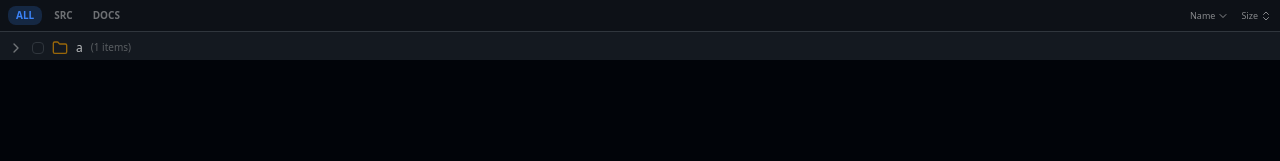
Test: FileTree State Preservation › Expansion state preservation › should maintain nested expansion hierarchy
Expected: the text "a" is shown, [76,38,83,56]
Click the button with test id "expand-icon" at point(16, 48), box [6,38,26,58]
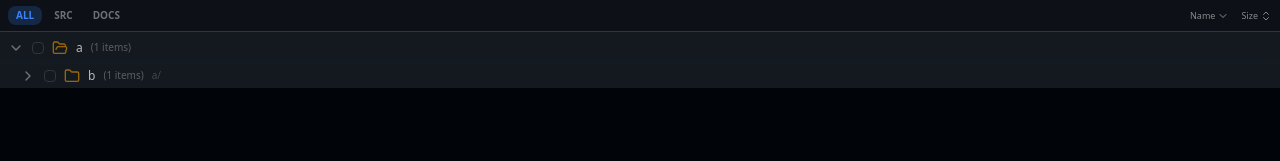
Result: the text "b" is shown at [88,66,95,84]
Click the 2nd button with test id "expand-icon" at point(28, 76), box [18,66,38,86]
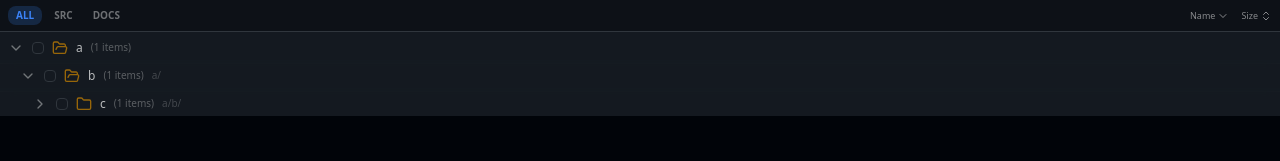
Result: the text "c" is shown at [100,94,106,112]
Click the 3rd button with test id "expand-icon" at point(40, 104), box [30,94,50,114]
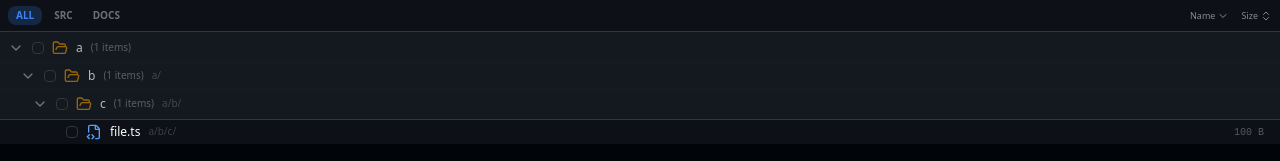
Result: the text "file.ts" is shown at [110,122,140,140]
// Collapse 'b'
Click the 2nd button with test id "expand-icon" at point(28, 76), box [18,66,38,86]
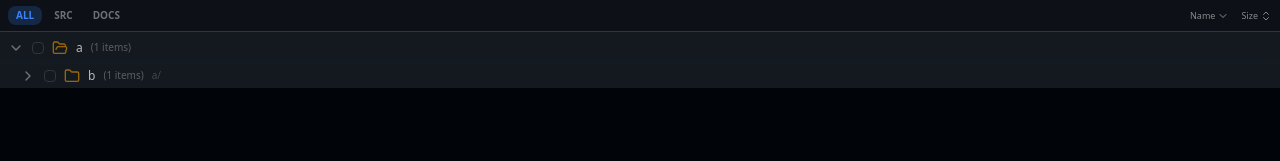
Result: the text "file.ts" is gone
// Re-expand 'b'
Click the 2nd button with test id "expand-icon" at point(28, 76), box [18,66,38,86]
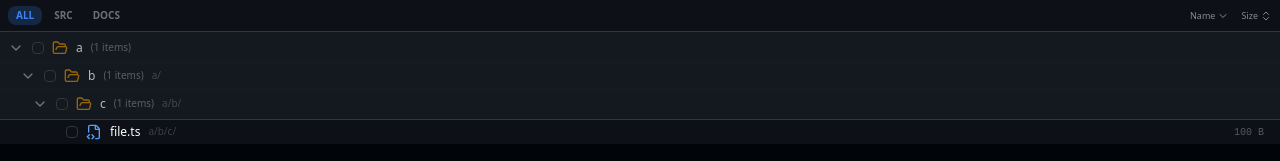
Result: the text "c" is shown at [100,94,106,112]
Result: the text "file.ts" is shown at [110,122,140,140]
